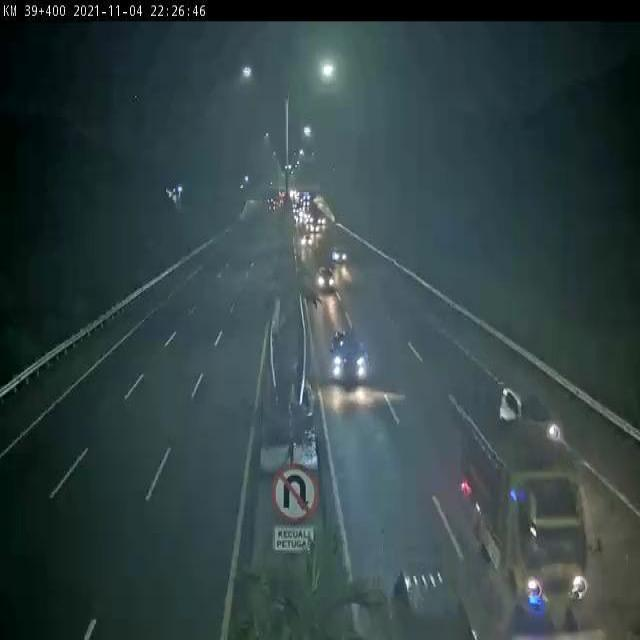car: (393, 561, 481, 640), (327, 322, 370, 382)
truck: (469, 411, 602, 593)
